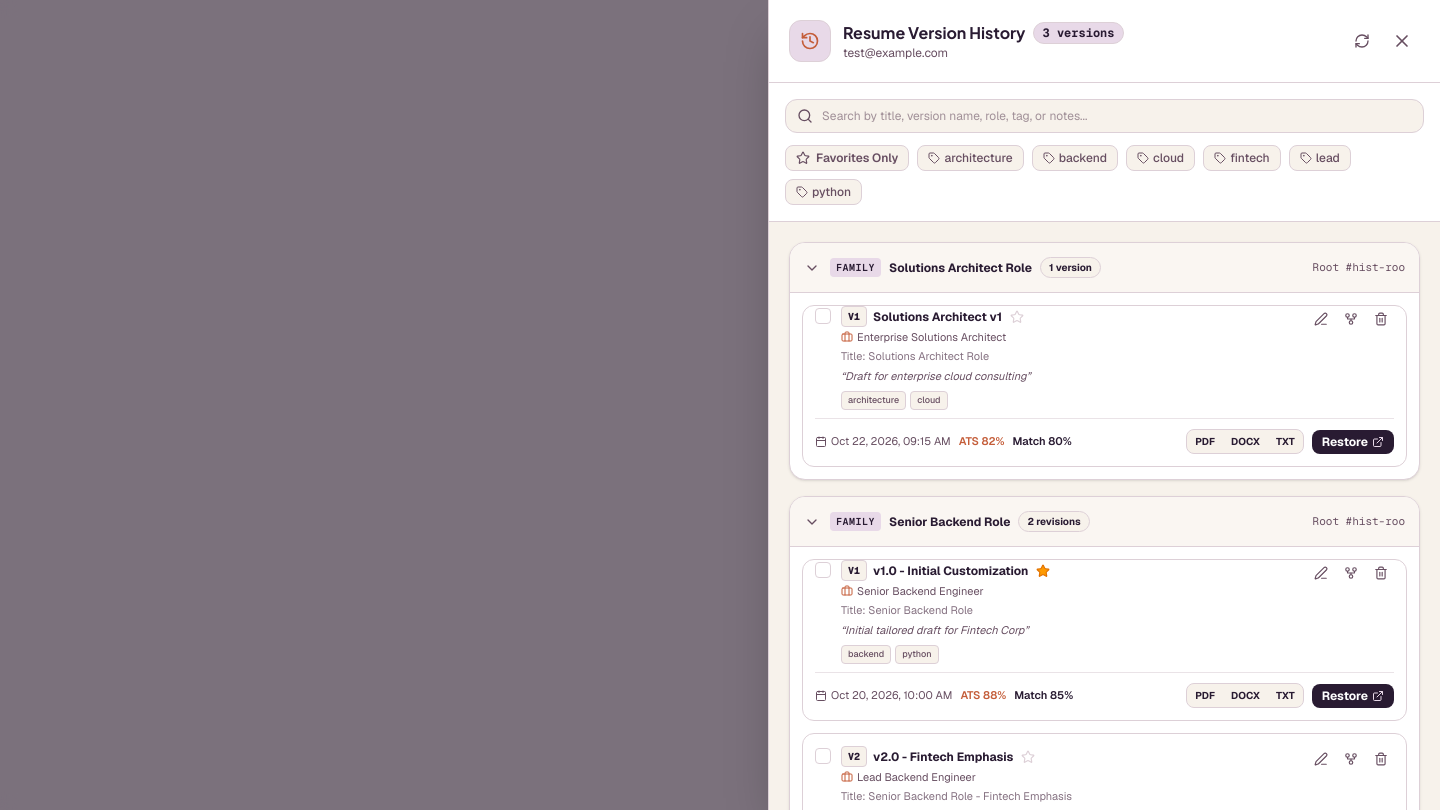
Test: HistoryDrawer Component › filters by tag pill click
Click the button "architecture": {"x": 971, "y": 158} [917,145,1024,171]
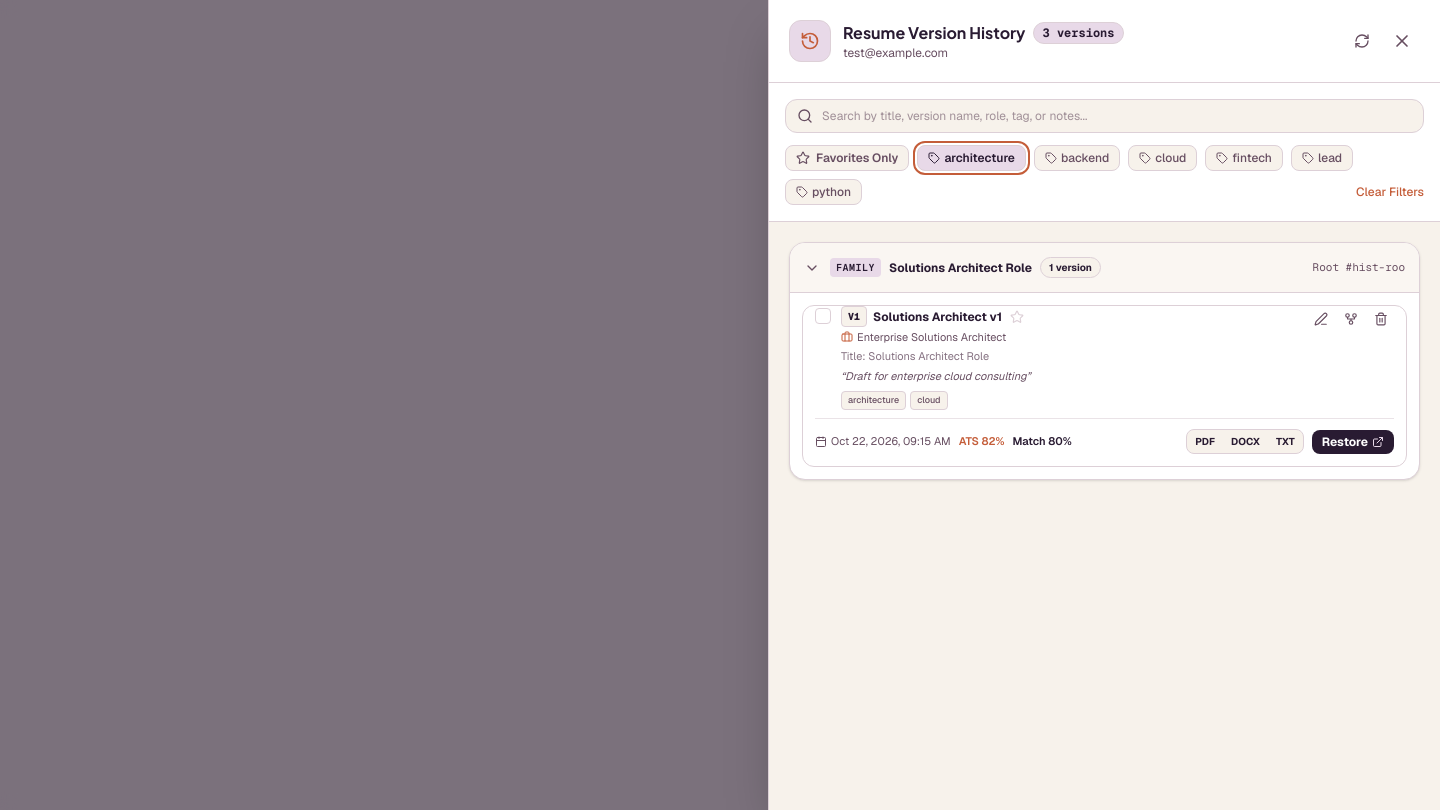
Expected: the text "Solutions Architect Role" is shown, [889,260,1032,276]
Expected: the heading "v2.0 - Fintech Emphasis" is gone
